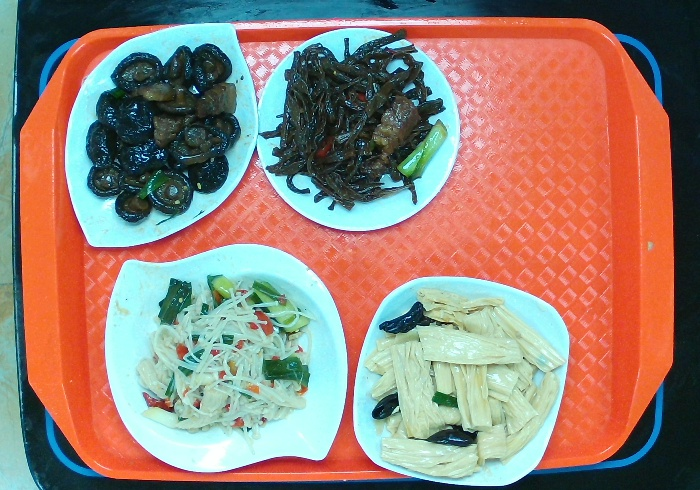RJxy-Da_Du_Pan: (58, 16, 262, 252)
RJxy-Shuang_Jiao_Pan: (98, 236, 353, 477)
RJxy-Si_Fang_Wan: (346, 267, 574, 490)
RJxy-Xiao_Yuan_Die: (246, 23, 465, 242)
